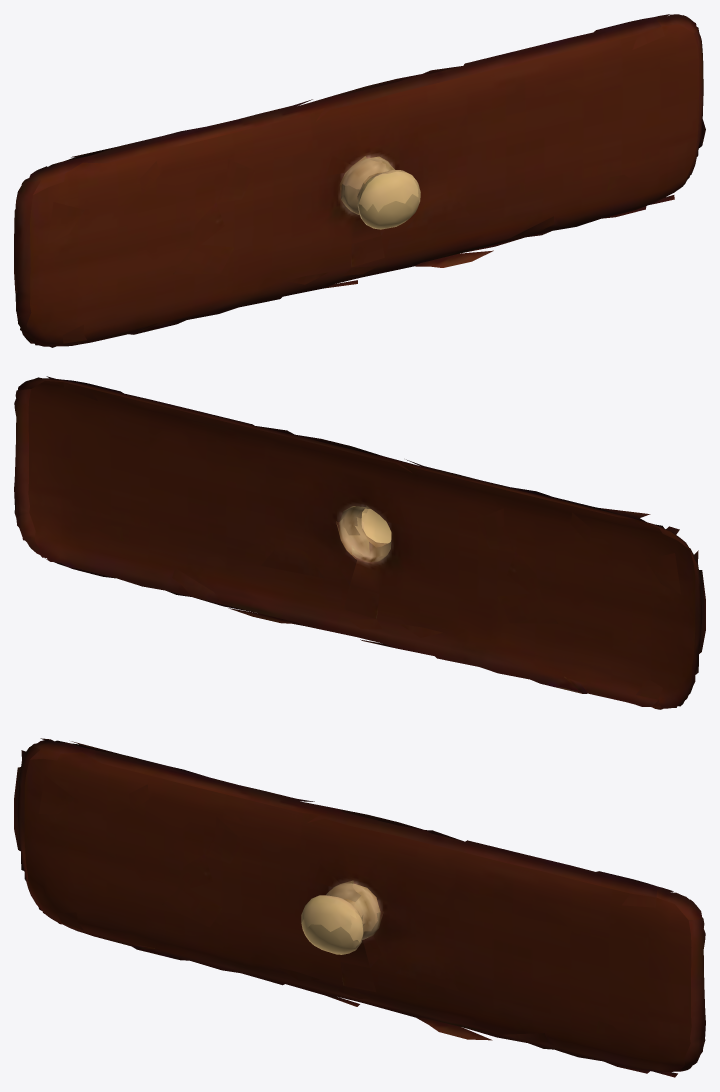
Rendered from drawer.glb.
3 renders of one model, top to bottom at view 1: azimuth 30°, elevation 25°; view 2: azimuth 150°, elevation 25°; view 3: azimuth 330°, elevation 25°, orthographic.
Parts seen in each view (by area): view 1: geometry_0; view 2: geometry_0; view 3: geometry_0.
Part boxes in pixels (bbox=[...]): geometry_0: bbox=[14, 14, 705, 347]; geometry_0: bbox=[14, 376, 705, 709]; geometry_0: bbox=[14, 738, 705, 1077].
Bounding box in the file's own units: 0.1409 × 0.0391 × 0.0151.
1 material, 1 textured.
